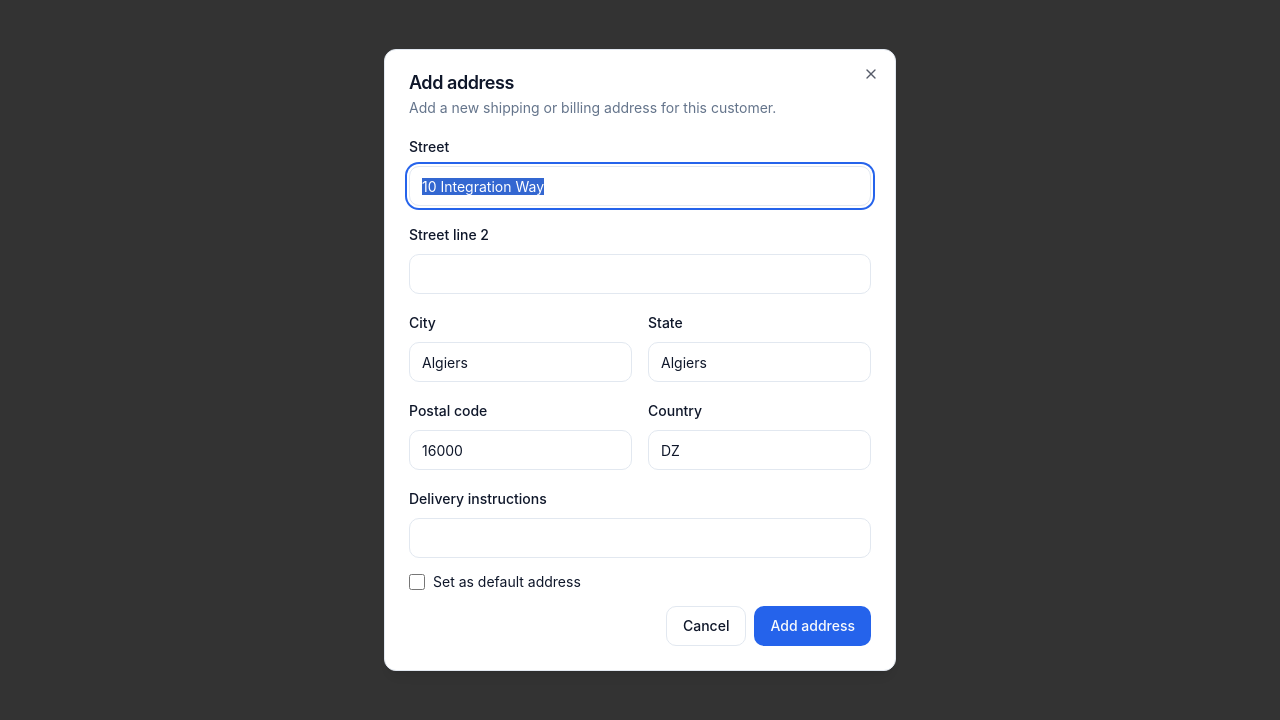
Test case: UserAddressForm › shows the API message when add fails
The width and height of the screenshot is (1280, 720).
Click the button "Add address" at (813, 626), box [754, 606, 871, 646]
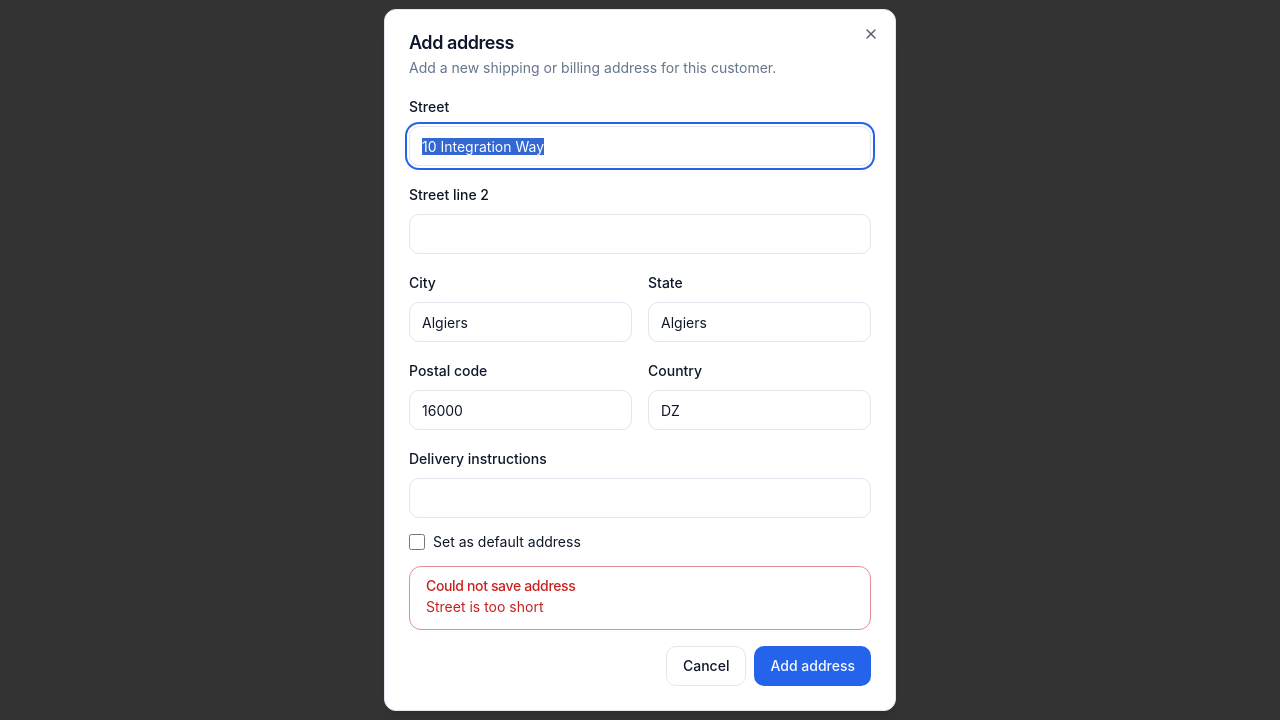
expect the text "Street is too short" is shown: met, box [426, 598, 544, 615]
expect the text "Could not save address" is shown: met, box [426, 577, 576, 594]
